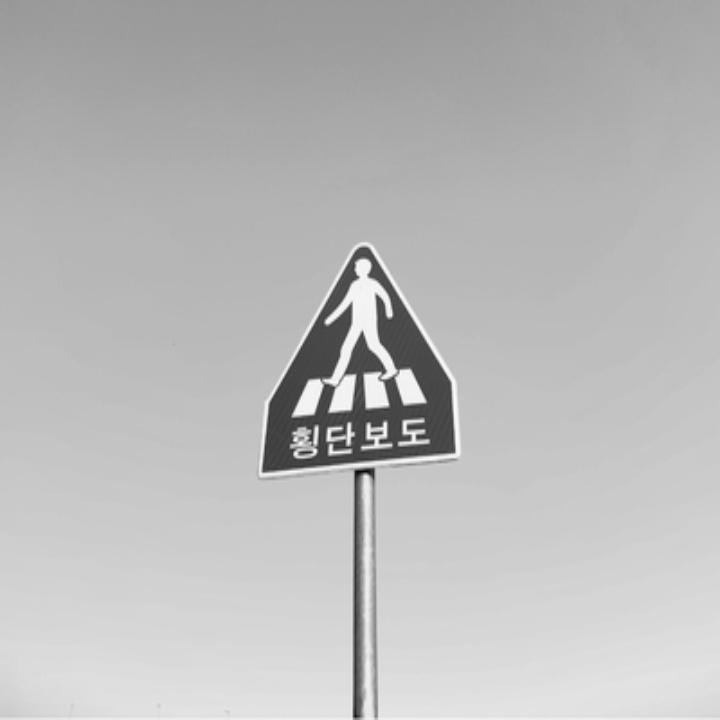cross: (275, 243, 457, 413)
